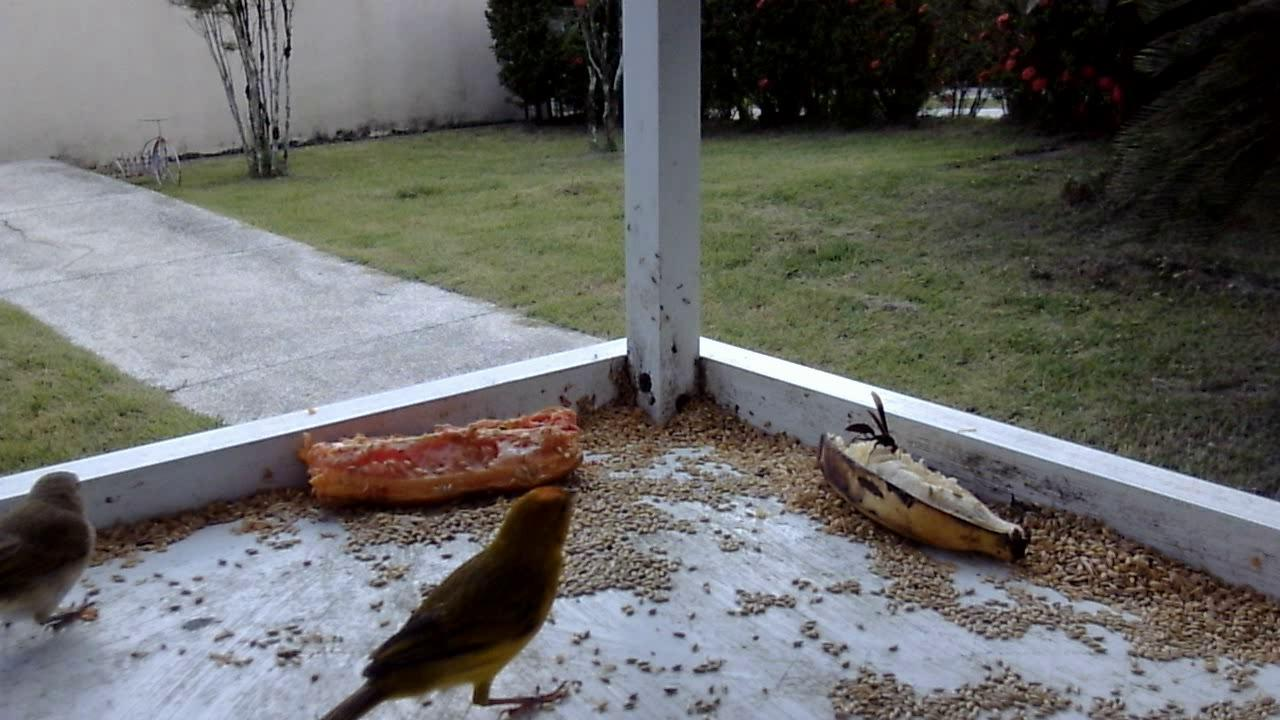canario_do_amazonas: (304, 474, 592, 716), (1, 464, 111, 650)
